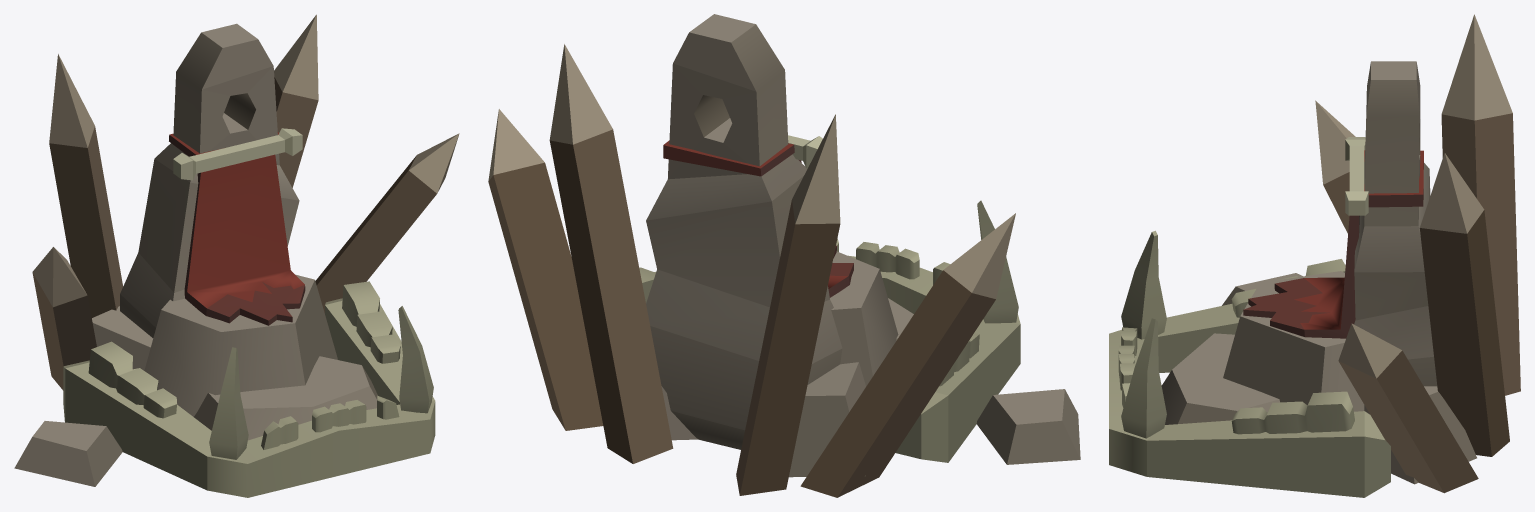
File: SF_Prop_Goblin_Throne_01.fbx
3 views of the same model, side by side, from view 1: azimuth 30°, elevation 25°; view 2: azimuth 150°, elevation 25°; view 3: azimuth 270°, elevation 25° (orthographic). The views are drawn at different scales.
Parts seen in each view (by area): view 1: SF_Prop_Goblin_Throne_01; view 2: SF_Prop_Goblin_Throne_01; view 3: SF_Prop_Goblin_Throne_01.
Part boxes in pixels (box(x1,y1,x2,y2)): SF_Prop_Goblin_Throne_01: box(14, 14, 459, 497); SF_Prop_Goblin_Throne_01: box(488, 14, 1080, 497); SF_Prop_Goblin_Throne_01: box(1109, 14, 1520, 497).
Bounding box in the file's own units: 5.63 × 3.85 × 4.
